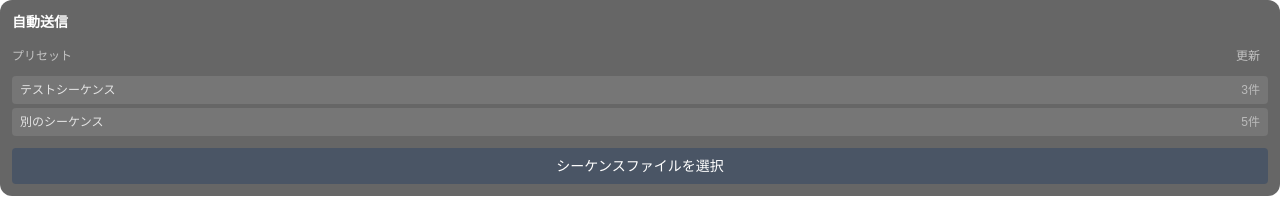
Test: ScriptAutoSenderPanel - プリセット機能 › タスク3.3: プリセット選択時の読み込み処理 (Requirements 2.1, 2.2, 2.3, 2.4) › プリセット詳細取得中はローディング状態を表示する
Click the text "テストシーケンス" at (68,90), box left=20, top=82, right=115, bottom=98
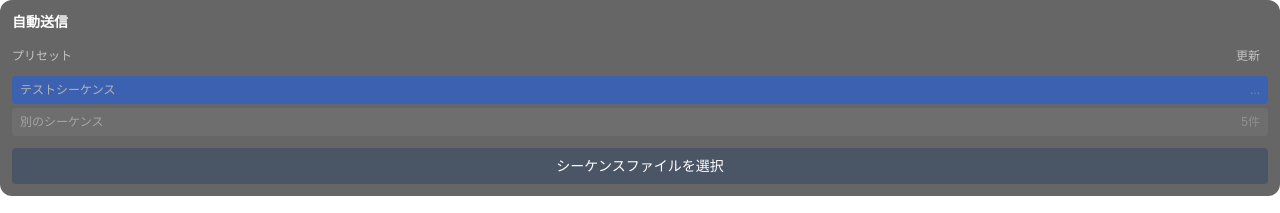
Expected: the text "..." is shown, left=1250, top=83, right=1260, bottom=97
